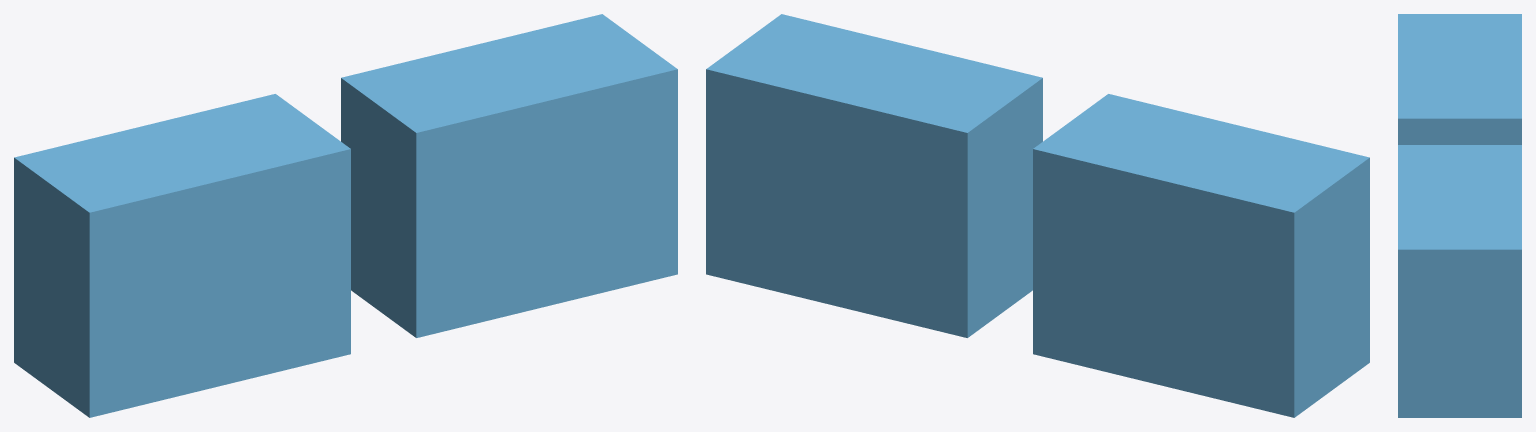
The model's file is preview.glb.
3 renders of one model, left to right at view 1: azimuth 30°, elevation 25°; view 2: azimuth 150°, elevation 25°; view 3: azimuth 270°, elevation 25°, orthographic. The views are drawn at different scales.
Visible parts, largest first — view 1: Parasolid preview; view 2: Parasolid preview; view 3: Parasolid preview.
Part boxes in pixels (x1=…): Parasolid preview: x1=14, y1=14, x2=677, y2=417; Parasolid preview: x1=706, y1=14, x2=1369, y2=417; Parasolid preview: x1=1398, y1=14, x2=1521, y2=417.
Bounding box in the file's own units: 90 × 30 × 20.
